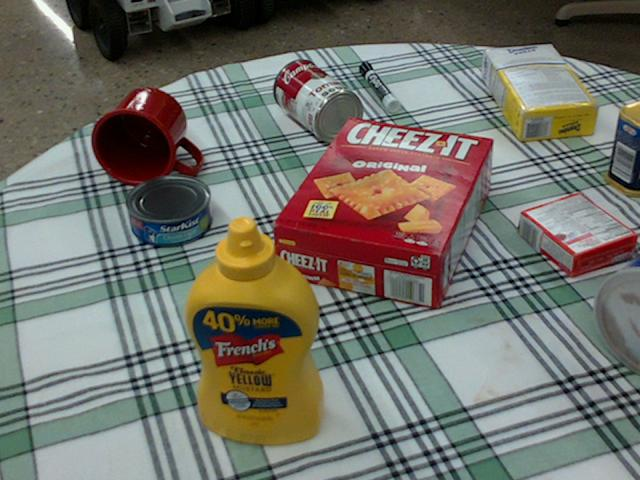cracker_box: (271, 118, 496, 308)
gelatin_box: (517, 192, 634, 274)
large_marker: (358, 62, 398, 110)
master_chef_can: (596, 255, 639, 374)
mug: (90, 87, 200, 185)
mustard_bottle: (184, 215, 325, 443)
potted_meat_can: (602, 100, 639, 196)
sugar_box: (482, 45, 600, 141)
tomato_soup_can: (272, 58, 362, 141)
tuna_fish_can: (123, 174, 210, 245)
